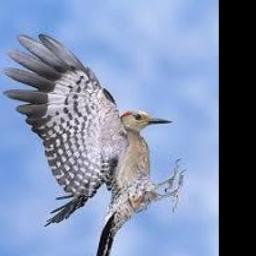Woodpecker: (3, 34, 186, 256)
